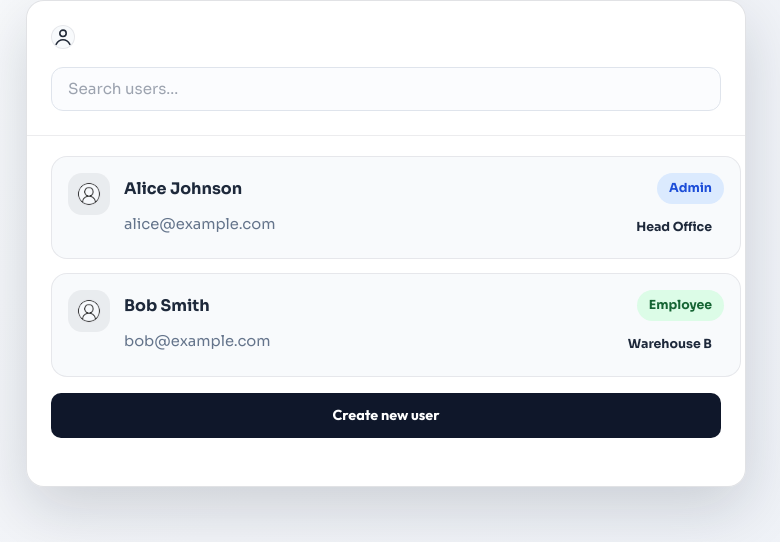
Test: UserList › shows an empty state when no users match the search
The width and height of the screenshot is (780, 542).
Type "zzzzz" into the search field labelled "Search users..." at (386, 89), box [51, 67, 721, 111]
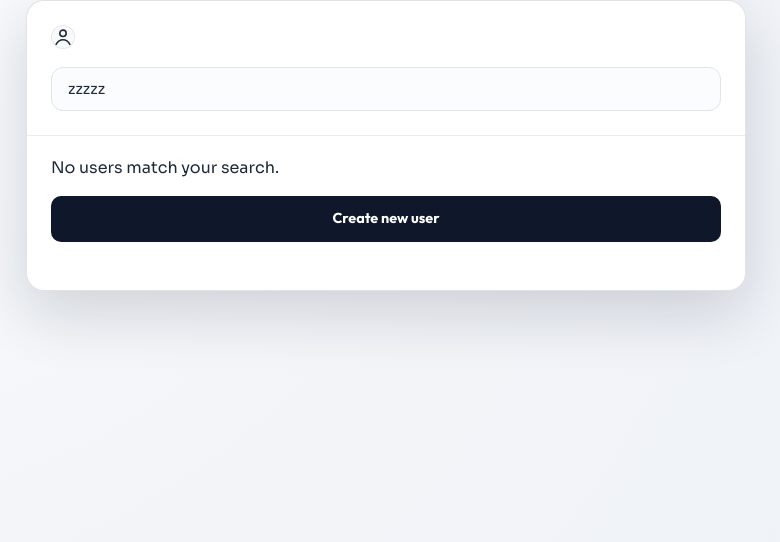
Expected: the text "No users match your search." is shown, [51, 157, 279, 178]
